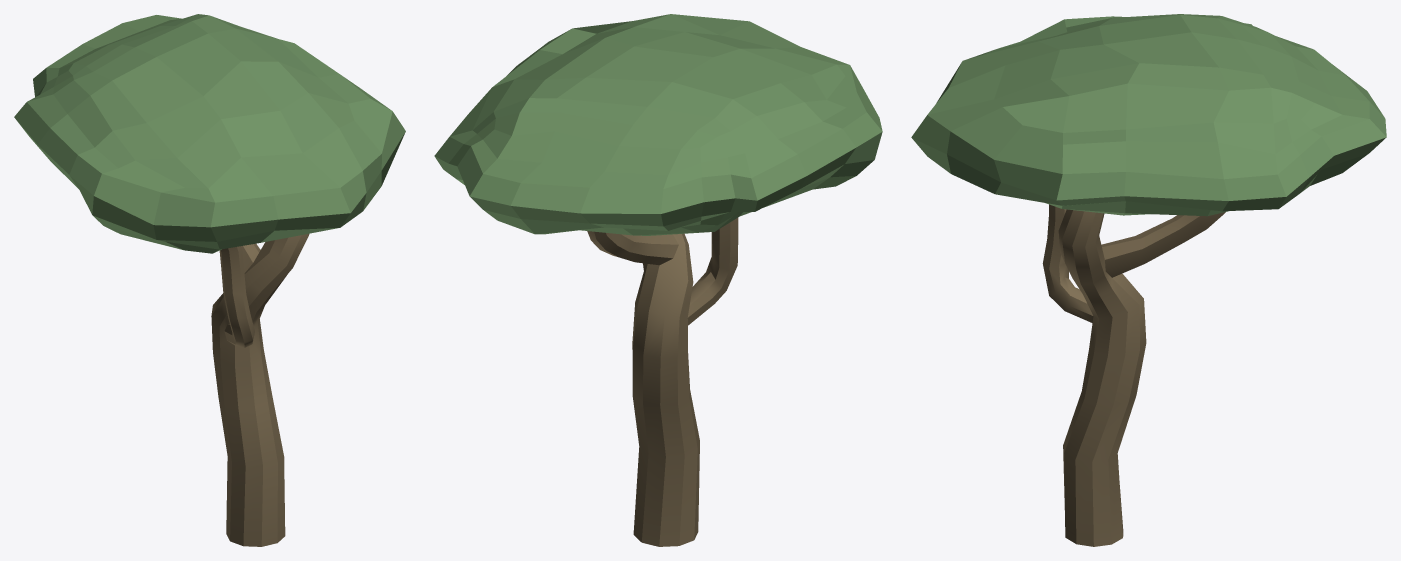
The model's file is arbre02.fbx.
3 views of the same model, side by side, from view 1: azimuth 30°, elevation 25°; view 2: azimuth 150°, elevation 25°; view 3: azimuth 270°, elevation 25° (orthographic). The views are drawn at different scales.
Parts seen in each view (by area): view 1: pCylinder2; view 2: pCylinder2; view 3: pCylinder2.
Part boxes in pixels (box(x1,y1,x2,y2)): pCylinder2: box(14, 14, 405, 546); pCylinder2: box(434, 14, 882, 546); pCylinder2: box(911, 14, 1386, 546).
Size of the model in its own units: 8.79 by 12.31 by 11.17.
